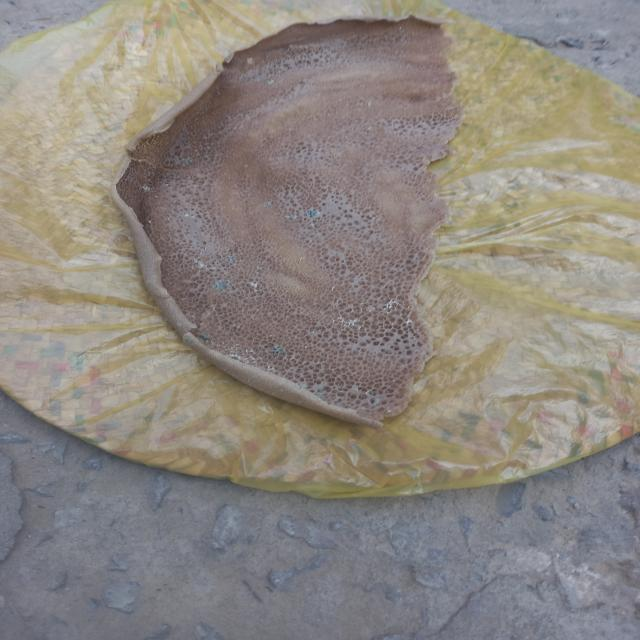injera_mold: (229, 346, 254, 364), (336, 315, 364, 331), (361, 390, 382, 406), (212, 279, 233, 294), (268, 344, 286, 358), (194, 257, 213, 270), (306, 208, 321, 220), (197, 332, 212, 344), (384, 299, 400, 310), (181, 335, 195, 346), (314, 388, 328, 398), (294, 381, 308, 390), (249, 280, 260, 291), (180, 157, 194, 165), (140, 184, 152, 193), (264, 201, 272, 209), (176, 322, 185, 329), (232, 322, 241, 329), (286, 215, 296, 221), (254, 265, 264, 271), (227, 256, 235, 261)
